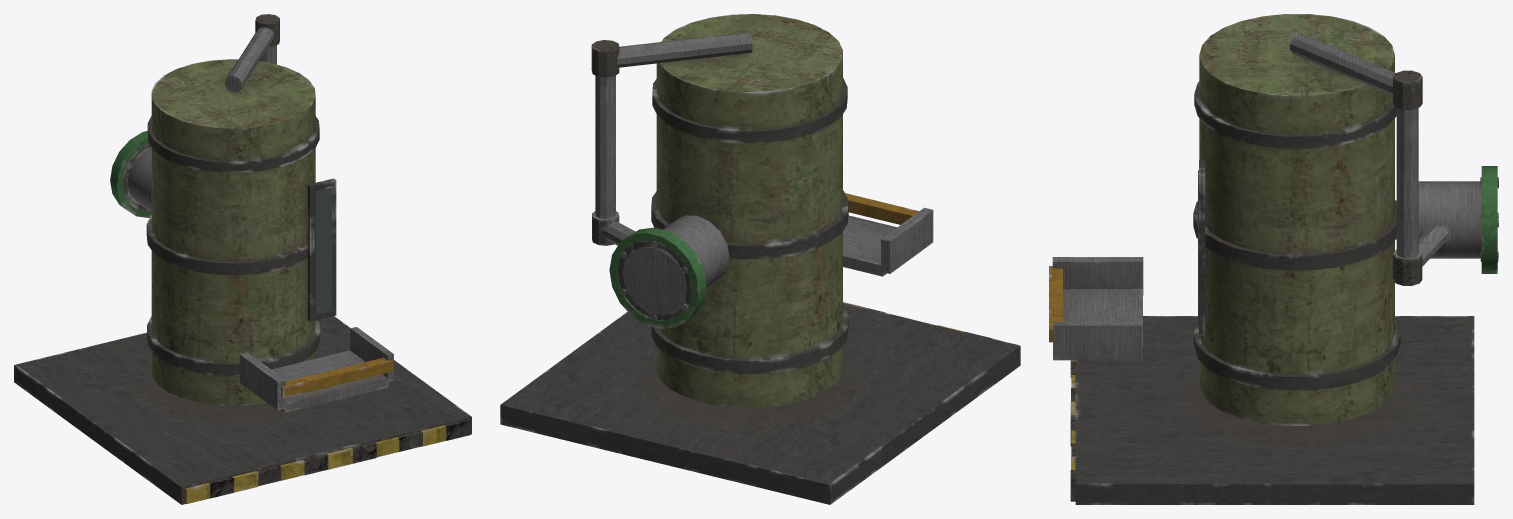
Rendered from feGasScrubber_HD.fbx.
3 views of the same model, side by side, from view 1: azimuth 30°, elevation 25°; view 2: azimuth 150°, elevation 25°; view 3: azimuth 270°, elevation 25° (orthographic). The views are drawn at different scales.
Parts seen in each view (by area): view 1: feGasScrubber_Base; view 2: feGasScrubber_Base; view 3: feGasScrubber_Base.
Part boxes in pixels (x1=…): feGasScrubber_Base: x1=14, y1=14, x2=471, y2=504; feGasScrubber_Base: x1=500, y1=14, x2=1020, y2=504; feGasScrubber_Base: x1=1049, y1=14, x2=1498, y2=504.
Bounding box in the file's own units: 0.9012 × 0.9742 × 1.02.
1 material, 1 textured.
